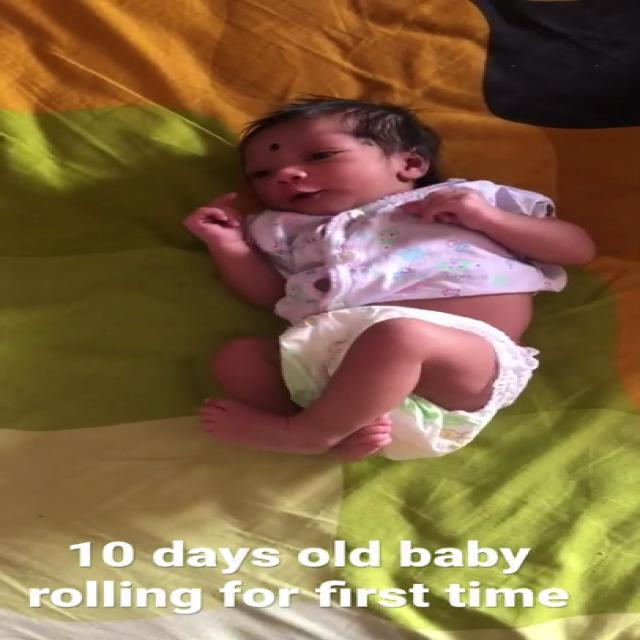baby: (168, 96, 603, 466)
